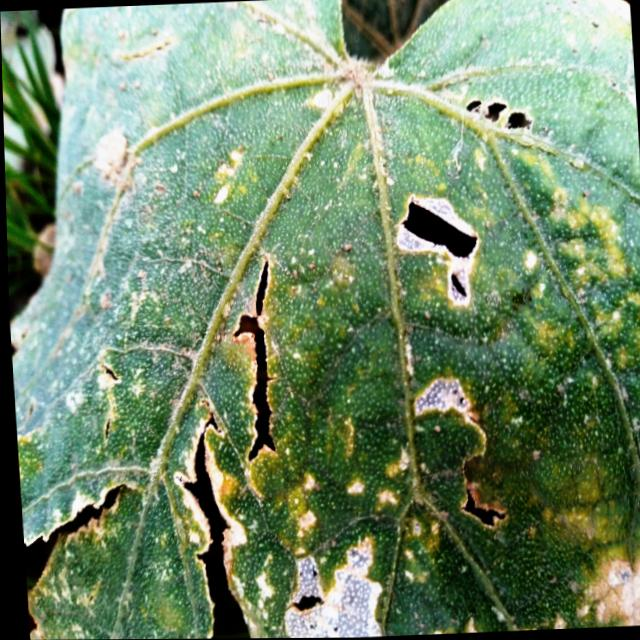Anthracnose: (230, 251, 280, 465), (396, 191, 483, 308), (462, 87, 539, 136), (446, 486, 518, 532)
